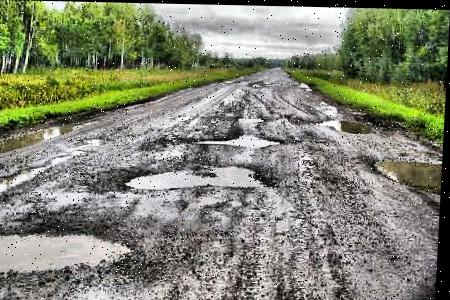pothole: (0, 225, 139, 284), (123, 159, 281, 192), (371, 153, 443, 191), (194, 130, 284, 148), (316, 113, 376, 135), (320, 94, 342, 113), (237, 113, 267, 123), (298, 79, 313, 90), (252, 80, 266, 87)
